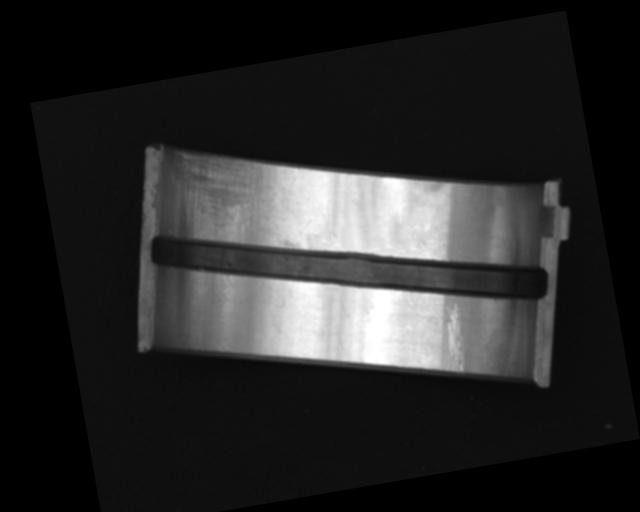gap: (149, 171, 551, 363)
nick: (440, 302, 471, 377)
scratch: (167, 133, 299, 268)
